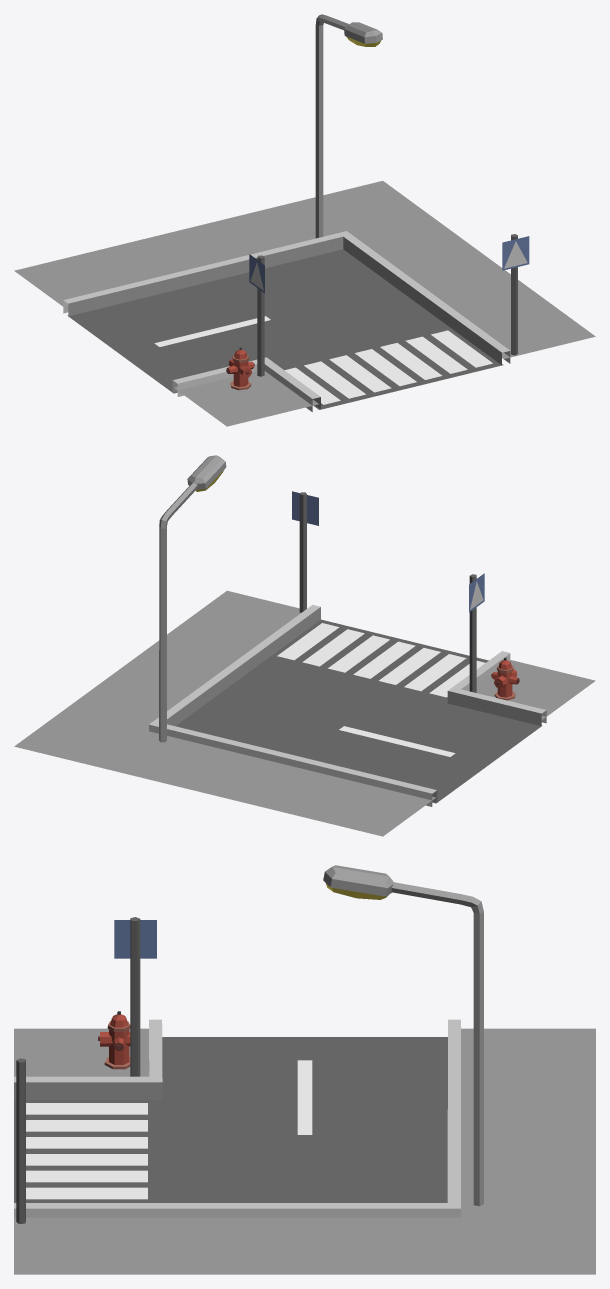
File: road_tile_1x1_003.fbx
The picture shows the model from 3 angles, top to bottom: view 1: azimuth 30°, elevation 25°; view 2: azimuth 150°, elevation 25°; view 3: azimuth 270°, elevation 25°; orthographic projection. The views are drawn at different scales.
Parts seen in each view (by area): view 1: road_tile_1x1_003; view 2: road_tile_1x1_003; view 3: road_tile_1x1_003.
Part boxes in pixels (x1,y1,x2,y2): road_tile_1x1_003: [14, 14, 595, 426]; road_tile_1x1_003: [14, 455, 595, 836]; road_tile_1x1_003: [14, 865, 595, 1274].
Size of the model in its own units: 800 by 525 by 800.
